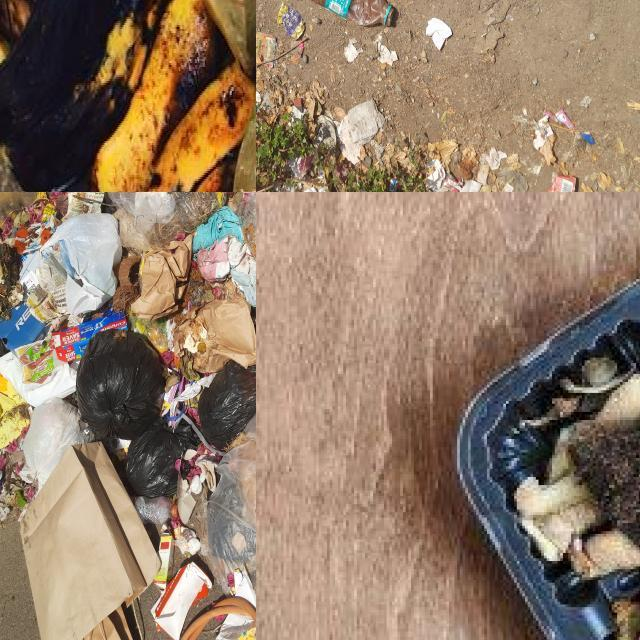Background: (256, 0, 640, 192)
Garbage: (0, 192, 256, 640), (454, 279, 640, 640)
Nylog_sting: (176, 402, 226, 457)
Plastic_Bag: (76, 331, 165, 440), (208, 415, 256, 595), (44, 213, 121, 316), (107, 192, 227, 250), (22, 398, 87, 490), (127, 417, 200, 497), (127, 417, 194, 497), (198, 360, 256, 450), (102, 193, 116, 213), (180, 460, 191, 479), (250, 307, 256, 335)
Plastic_Straw: (179, 376, 184, 396), (172, 421, 175, 428), (176, 401, 179, 408), (174, 411, 177, 417)
Plastic_bottle: (312, 0, 392, 25), (132, 497, 179, 525)
Plastic_wraper: (277, 3, 306, 40), (256, 33, 277, 66), (548, 175, 576, 192), (554, 109, 575, 130), (440, 177, 462, 192)
